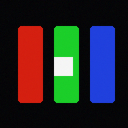1 square: (54, 57, 72, 75)
